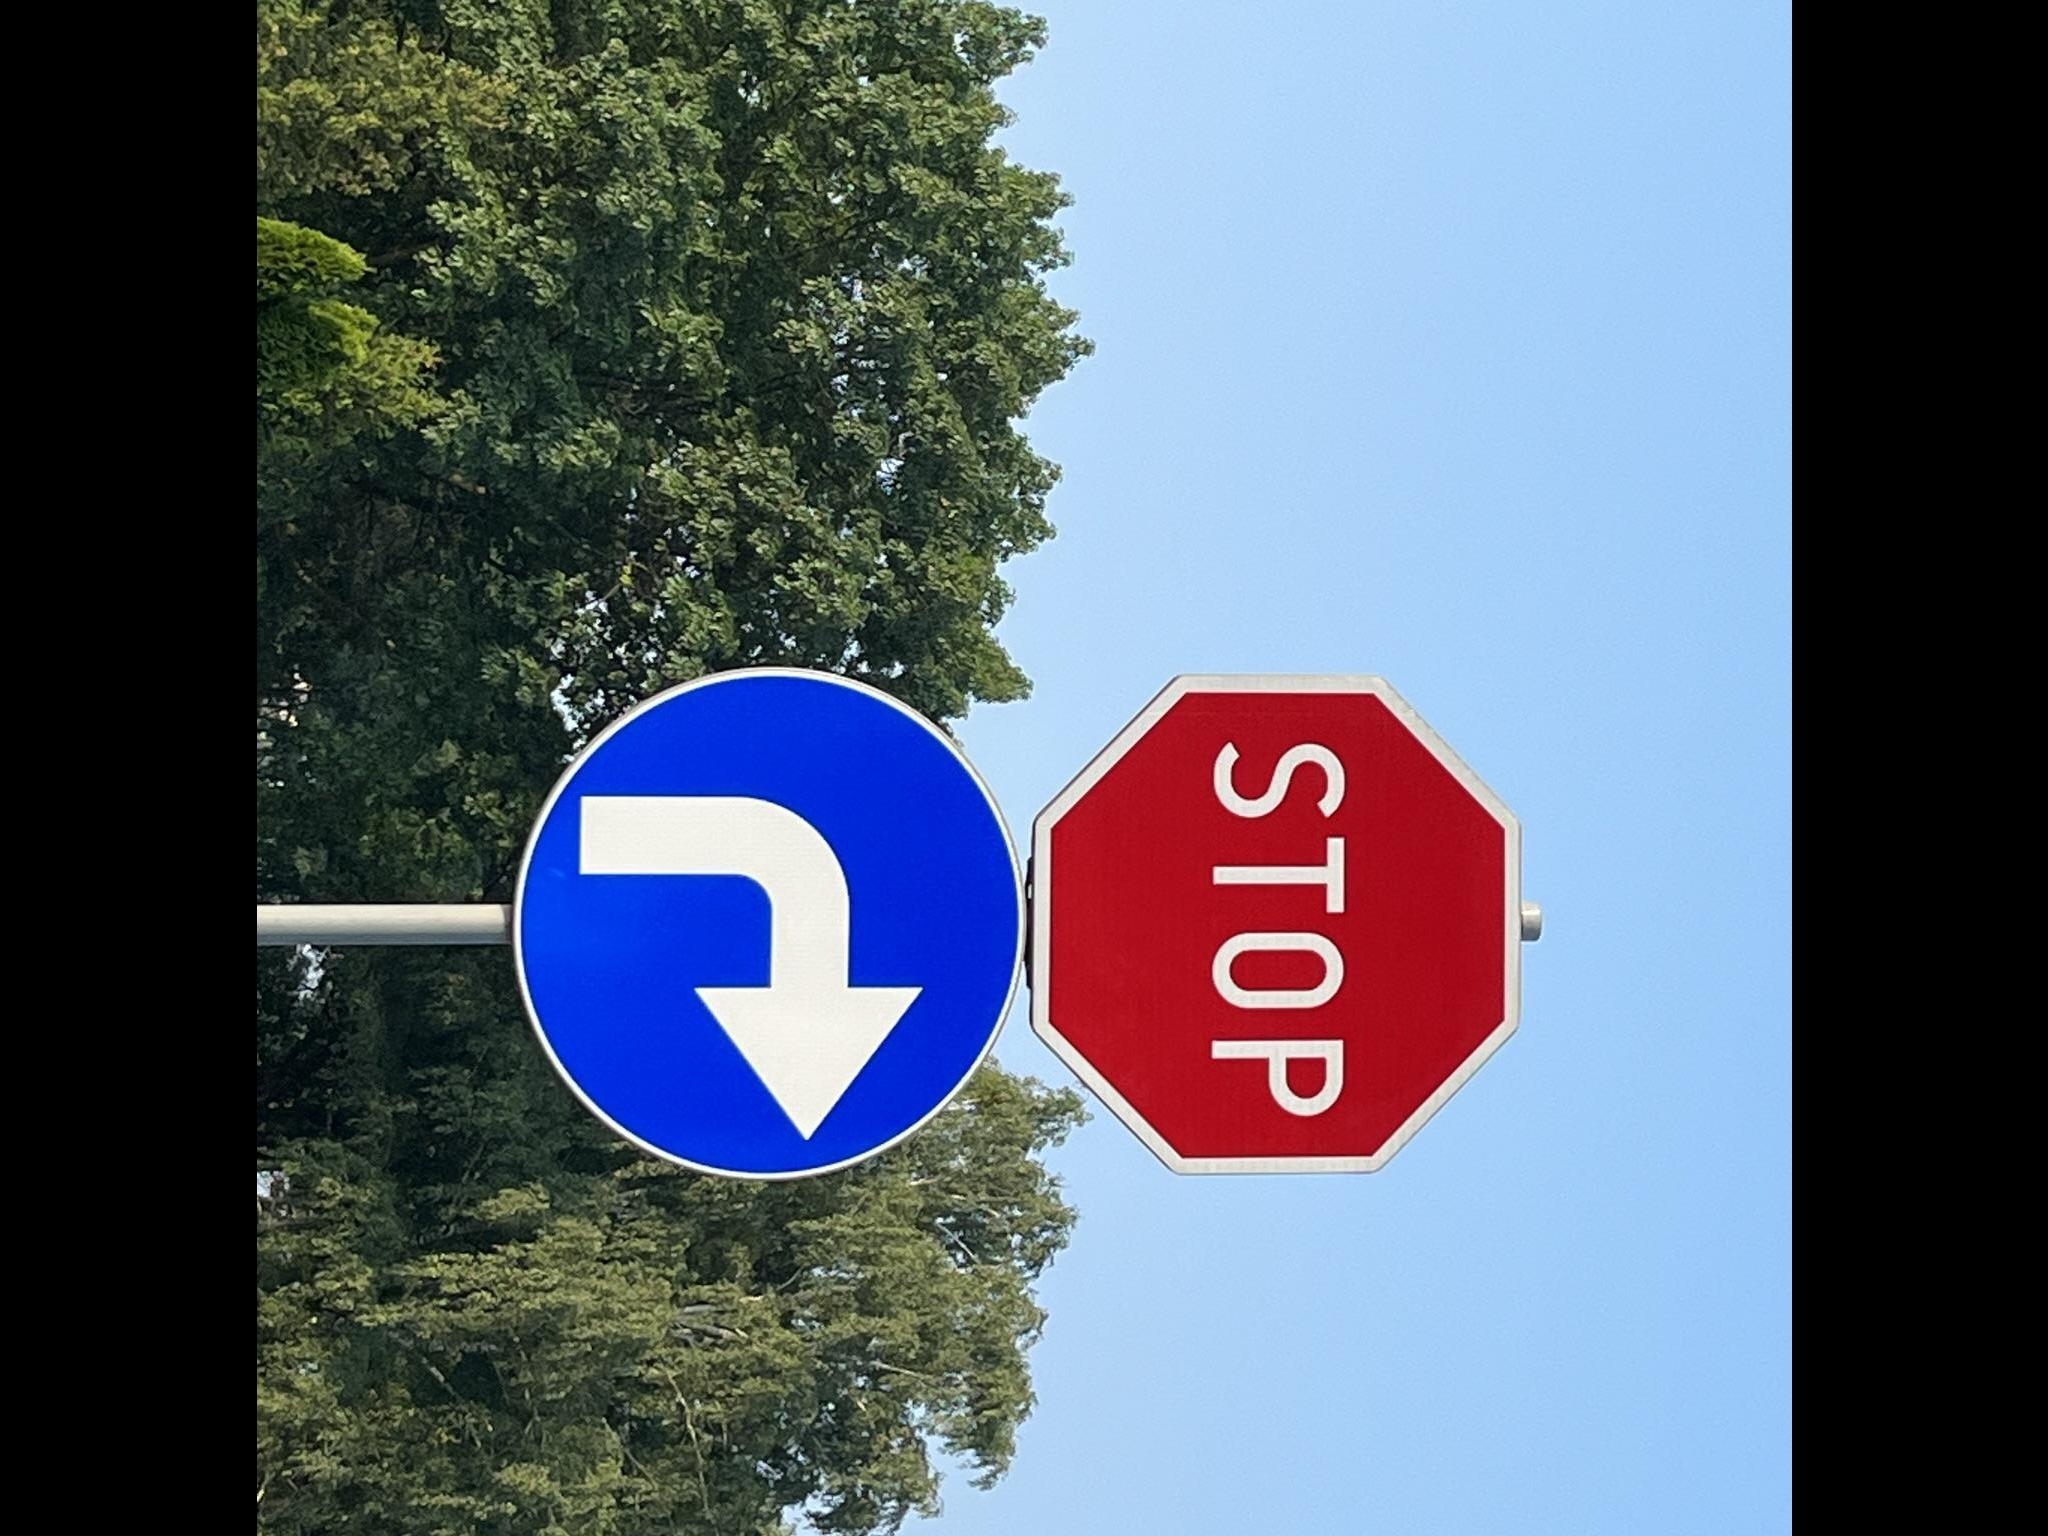mandatory: (506, 670, 1026, 1184)
prohibitory: (1029, 674, 1527, 1179)
